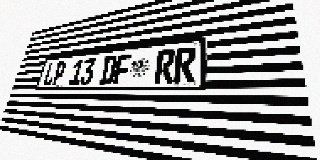1: (68, 59, 85, 85)
3: (79, 58, 96, 85)
D: (99, 55, 118, 84)
F: (113, 54, 132, 84)
L: (42, 62, 58, 86)
P: (51, 61, 67, 85)
R: (174, 46, 196, 83), (154, 49, 176, 83)
